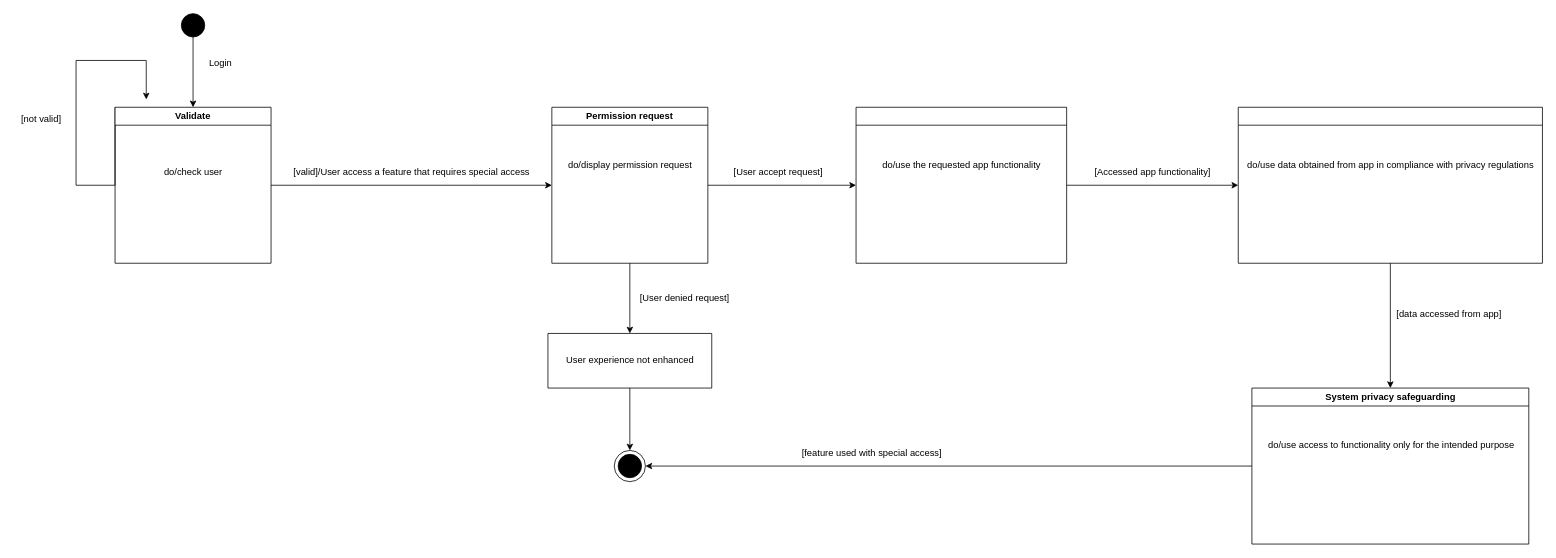
The diagram is 1556 pixels wide and 558 high, and some of its shapes have lost their labels. The box of each missing label's shape, as (x1, y1, x2, y2) in pixels:
System access data: (1237, 106, 1542, 263)
System use permission: (855, 106, 1067, 263)
